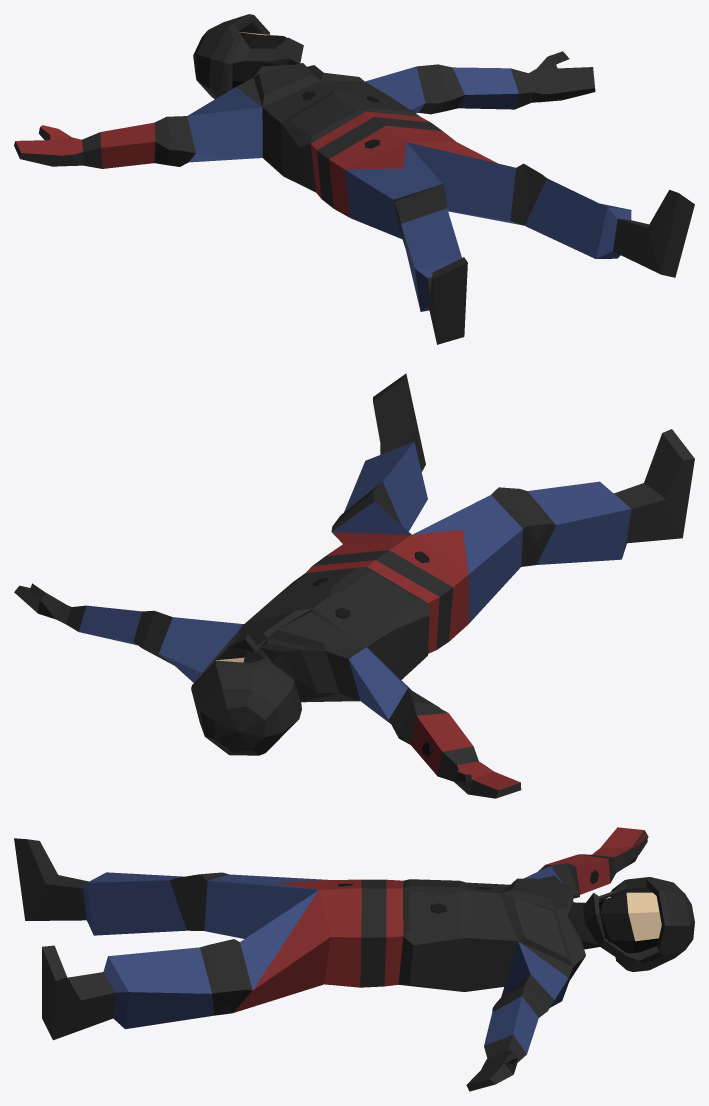
Rendered from apocalypse_man-swat-dead.fbx.
3 renders of one model, top to bottom at view 1: azimuth 30°, elevation 25°; view 2: azimuth 150°, elevation 25°; view 3: azimuth 270°, elevation 25°, orthographic. The views are drawn at different scales.
Visible parts, largest first — view 1: apocalypse_man_swat_dead; view 2: apocalypse_man_swat_dead; view 3: apocalypse_man_swat_dead.
Boxes of the visible parts, <box> form: apocalypse_man_swat_dead: <box>14,14,694,344</box>; apocalypse_man_swat_dead: <box>14,373,694,798</box>; apocalypse_man_swat_dead: <box>14,827,694,1091</box>.
Size of the model in its own units: 181 by 30.64 by 200.
